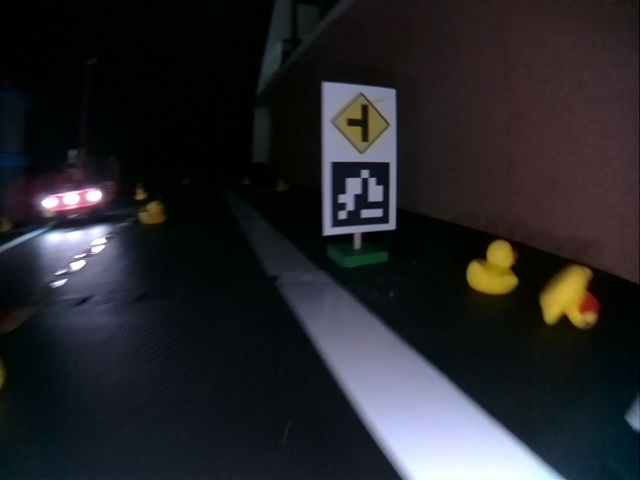Duckie: (540, 266, 598, 328), (466, 240, 518, 294), (139, 202, 165, 222), (1, 217, 11, 232), (134, 189, 146, 199), (276, 179, 285, 189)
Duckiebot: (43, 176, 113, 221)
Intersection sign: (331, 89, 394, 152)
QR code: (328, 159, 395, 228)
